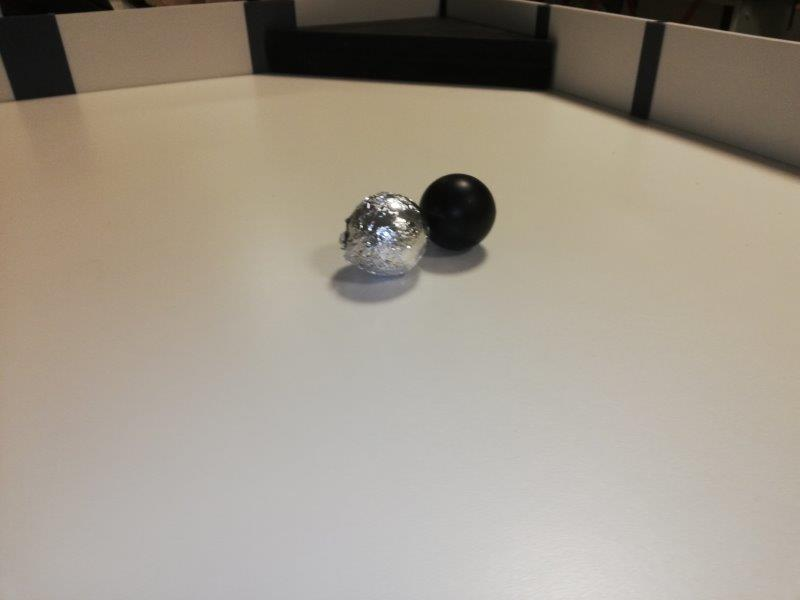bianca: (345, 187, 426, 277)
nera: (419, 176, 496, 250)
